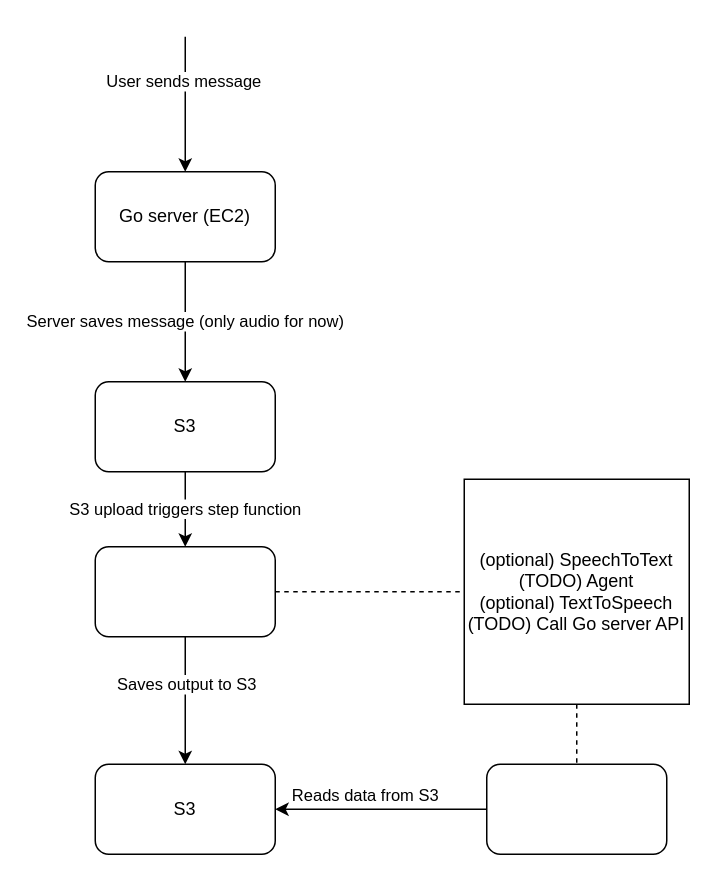
This 716x881 diagram has some shape labels left out. The shapes that lost their labels are listed below. From the top down, each one's box as (x1, y1, x2, y2) in pixels, then its label:
(94, 545, 275, 637): Step Function
(485, 763, 667, 854): Go server
